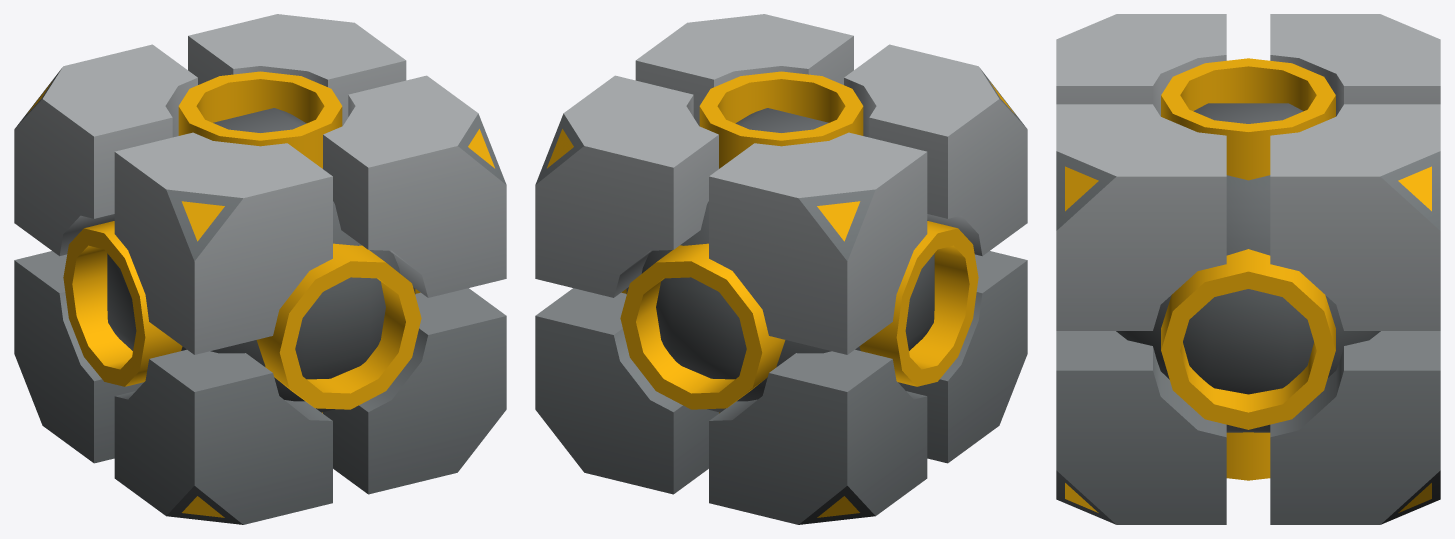
The picture shows the model from 3 angles, left to right: view 1: azimuth 30°, elevation 25°; view 2: azimuth 150°, elevation 25°; view 3: azimuth 270°, elevation 25°; orthographic projection. The views are drawn at different scales.
Visible parts, largest first — view 1: Box_013; view 2: Box_013; view 3: Box_013.
Part boxes in pixels (box(x1,y1,x2,y2)): Box_013: box(14, 14, 506, 524); Box_013: box(535, 14, 1027, 524); Box_013: box(1056, 14, 1440, 524).
Bounding box in the file's own units: 64.76 × 64.76 × 64.76.
